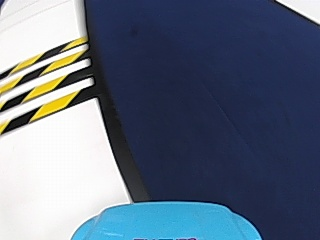bump: (3, 43, 84, 124)
